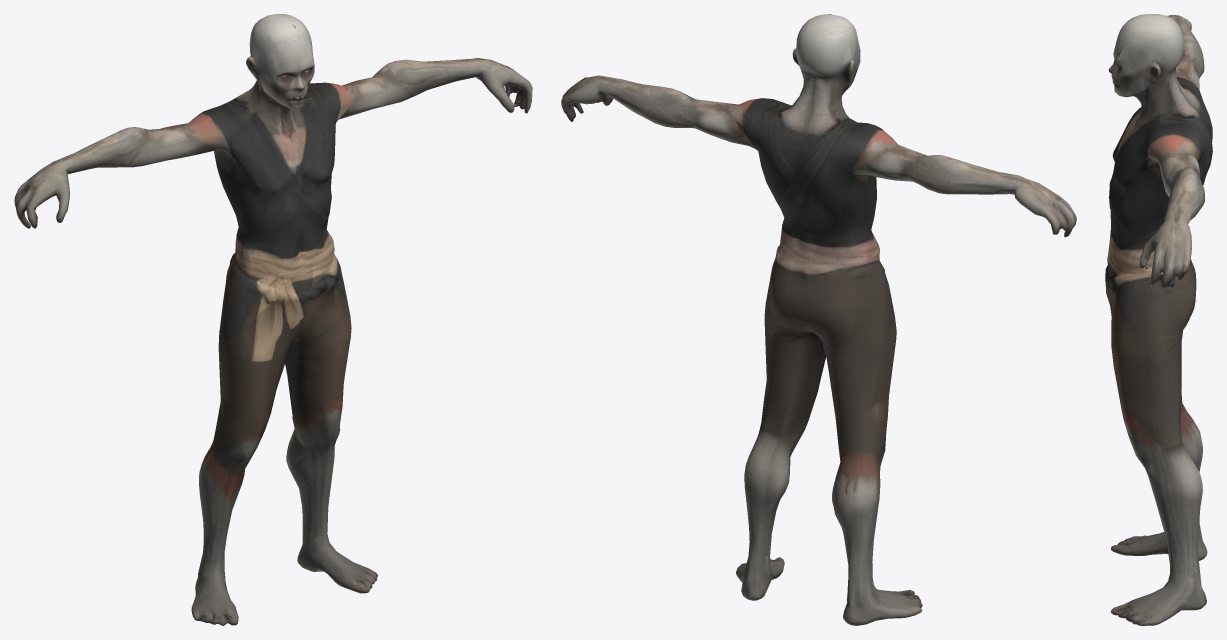
File: zombie.glb
3 views of the same model, side by side, from view 1: azimuth 30°, elevation 25°; view 2: azimuth 150°, elevation 25°; view 3: azimuth 270°, elevation 25° (orthographic). The views are drawn at different scales.
Bounding box in the file's own units: 1.85 × 2 × 0.3448.
1 material, 1 textured.
